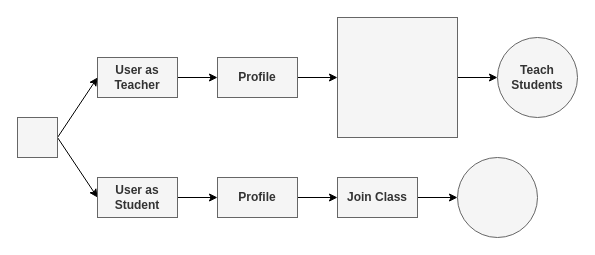
Some shapes in this 595 by 255 pixel diagram are drawn without their labels. Each missing label, with the centre of its shape:
Create Room with any: 1. White Board 2. Video Session: [397,77]
Login: [37,137]
Start Learning: [497,197]
